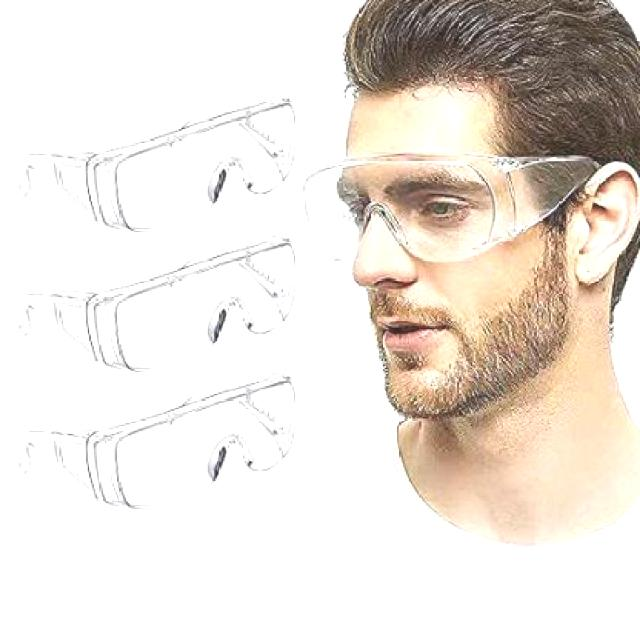face_nomask: (345, 174, 493, 355)
glasses: (27, 241, 307, 370), (304, 148, 604, 266), (51, 376, 300, 515), (69, 92, 308, 235)
